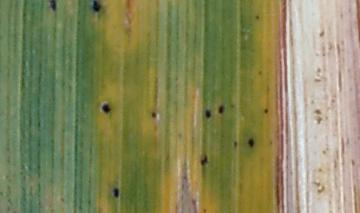tarspot: (100, 101, 112, 114), (47, 1, 59, 13), (91, 1, 102, 13), (246, 137, 256, 149), (111, 186, 120, 199), (199, 155, 209, 165), (231, 139, 239, 150), (217, 104, 224, 115), (204, 108, 211, 119), (149, 111, 158, 119), (253, 13, 261, 21), (256, 68, 264, 75), (263, 106, 269, 114), (201, 207, 207, 213)
